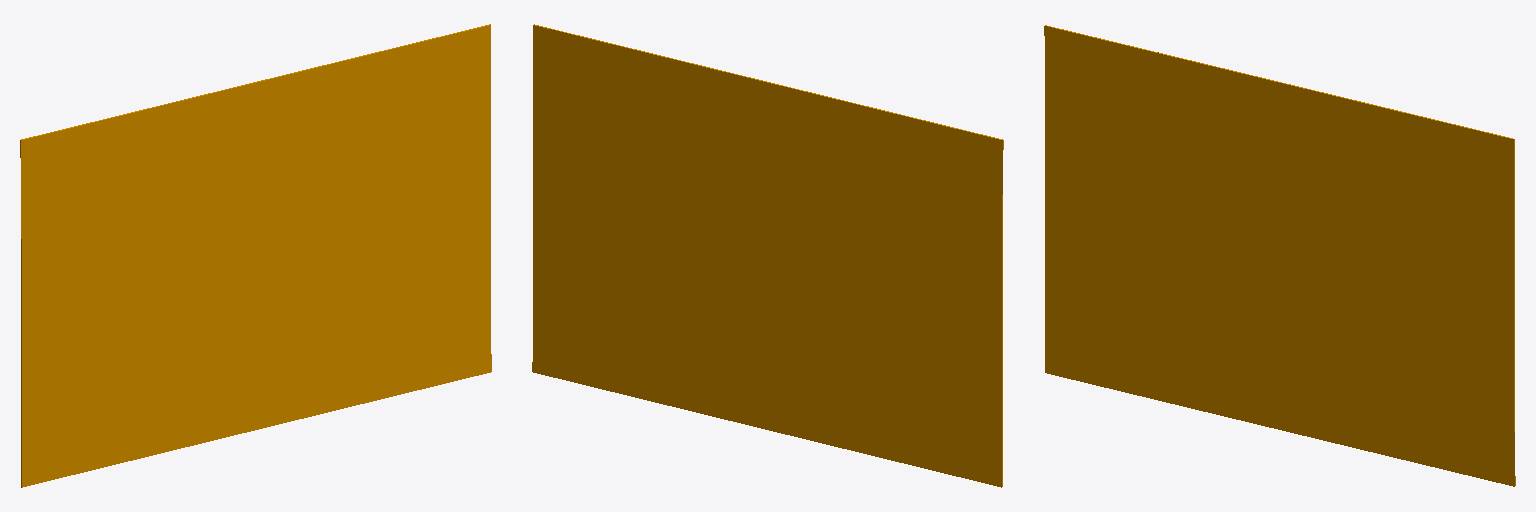
URDF robot description (my_robo):
<?xml version="1.0"?>
<robot name="my_robo" xmlns:xacro="http://ros.org/wiki/xacro">
 <link name="body">
   <inertial>
     <origin xyz="0 0 0.5" rpy="0 0 0"/>
     <mass value="1"/>
     <inertia ixx="0.1"  ixy="0"  ixz="0" iyy="0.1" iyz="0" izz="0.1" />
   </inertial>
   <visual>
     <origin xyz="0 0 0" rpy="1.57 3.14 0" />
     <geometry>
       <mesh filename="package://astrobee_iss/meshes/lostitem_target.dae"/>
     </geometry>
   </visual>
 </link>
 <gazebo reference="body_link">
   <material>Gazebo/Red</material>
 </gazebo>
</robot>

--- Facts derived from the render (not from the file) ---
Views: 3 orthographic renders of the robot side by side, from view 1: azimuth 30°, elevation 25°; view 2: azimuth 150°, elevation 25°; view 3: azimuth 330°, elevation 25°.
Model my_robo with 1 links and 0 joints (none), rooted at body, posed every joint at zero.
Visible links, largest first — view 1: body; view 2: body; view 3: body.
Boxes of the visible links, bbox=[...] form: body: bbox=[20, 24, 491, 487]; body: bbox=[532, 24, 1003, 487]; body: bbox=[1044, 25, 1515, 486].
Size in the robot's own frame: 0.2973 by 0.0012 by 0.2105 metres.
1 mesh visuals loaded from 1 distinct referenced files (1 Collada DAE).